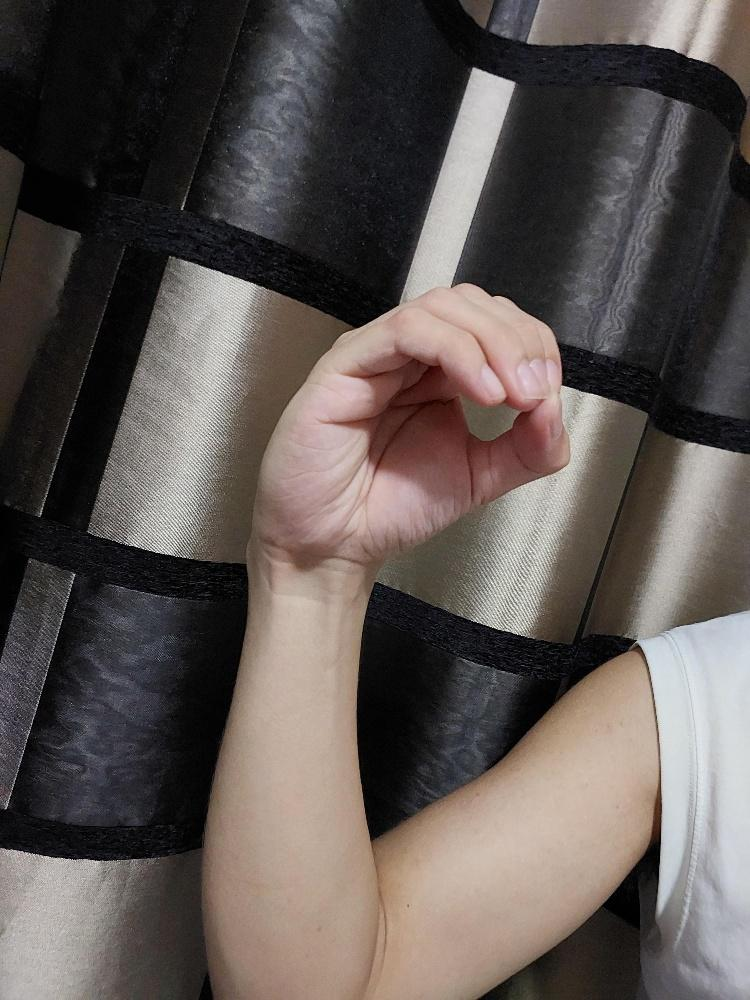o: (248, 279, 574, 568)
